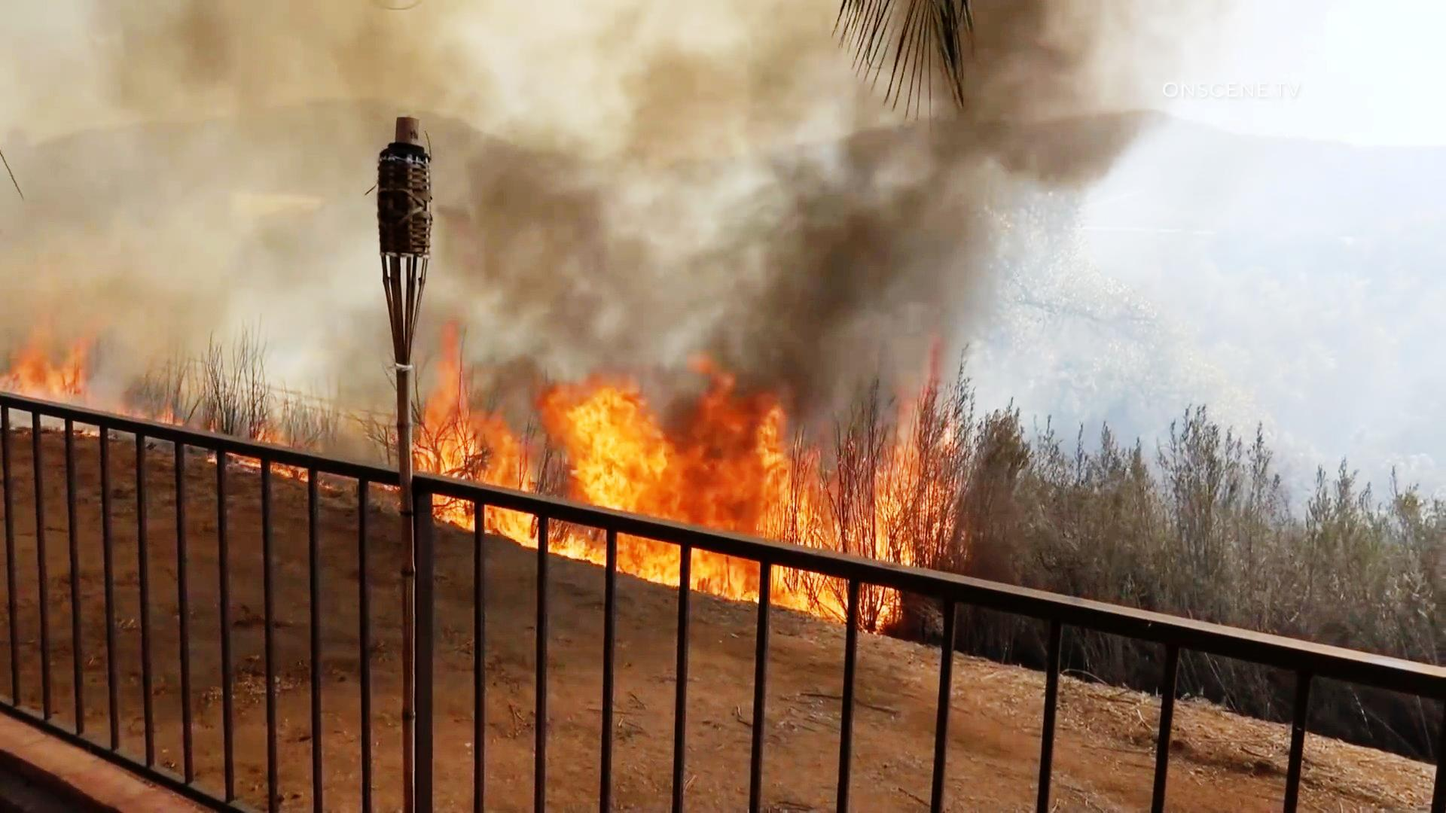fire: (439, 318, 831, 625), (6, 283, 103, 416)
smoke: (445, 17, 843, 308), (0, 0, 366, 296), (744, 126, 1010, 351), (972, 10, 1133, 195)
